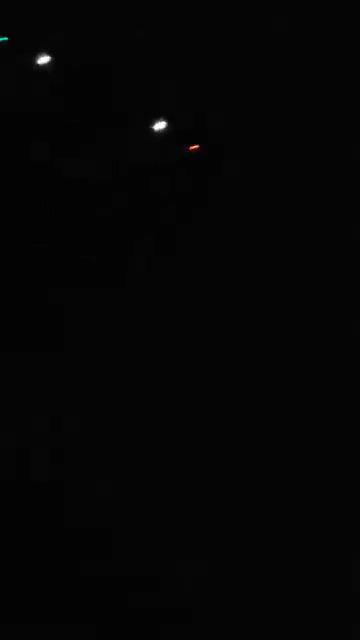Plane: (0, 15, 219, 178)
